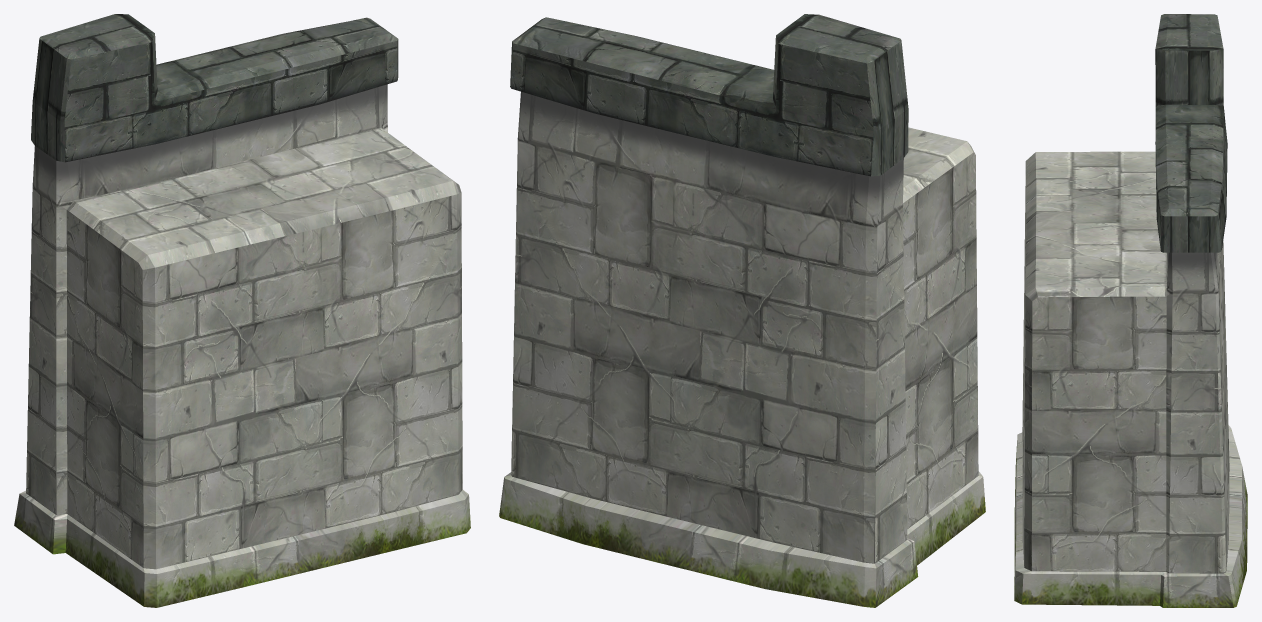
The model's file is Wall_Left_01.FBX.
3 views of the same model, side by side, from view 1: azimuth 30°, elevation 25°; view 2: azimuth 150°, elevation 25°; view 3: azimuth 270°, elevation 25° (orthographic). The views are drawn at different scales.
Visible parts, largest first — view 1: Wall_Left_01; view 2: Wall_Left_01; view 3: Wall_Left_01.
Part boxes in pixels (x1,y1,x2,y2): Wall_Left_01: (14, 14, 470, 607); Wall_Left_01: (499, 14, 985, 607); Wall_Left_01: (1014, 14, 1247, 607).
Bounding box in the file's own units: 154 × 210 × 98.95.
